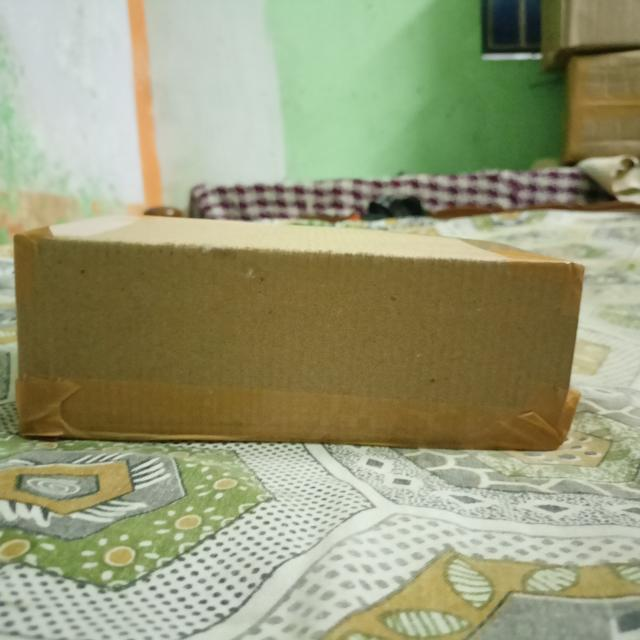box: (18, 236, 581, 444)
